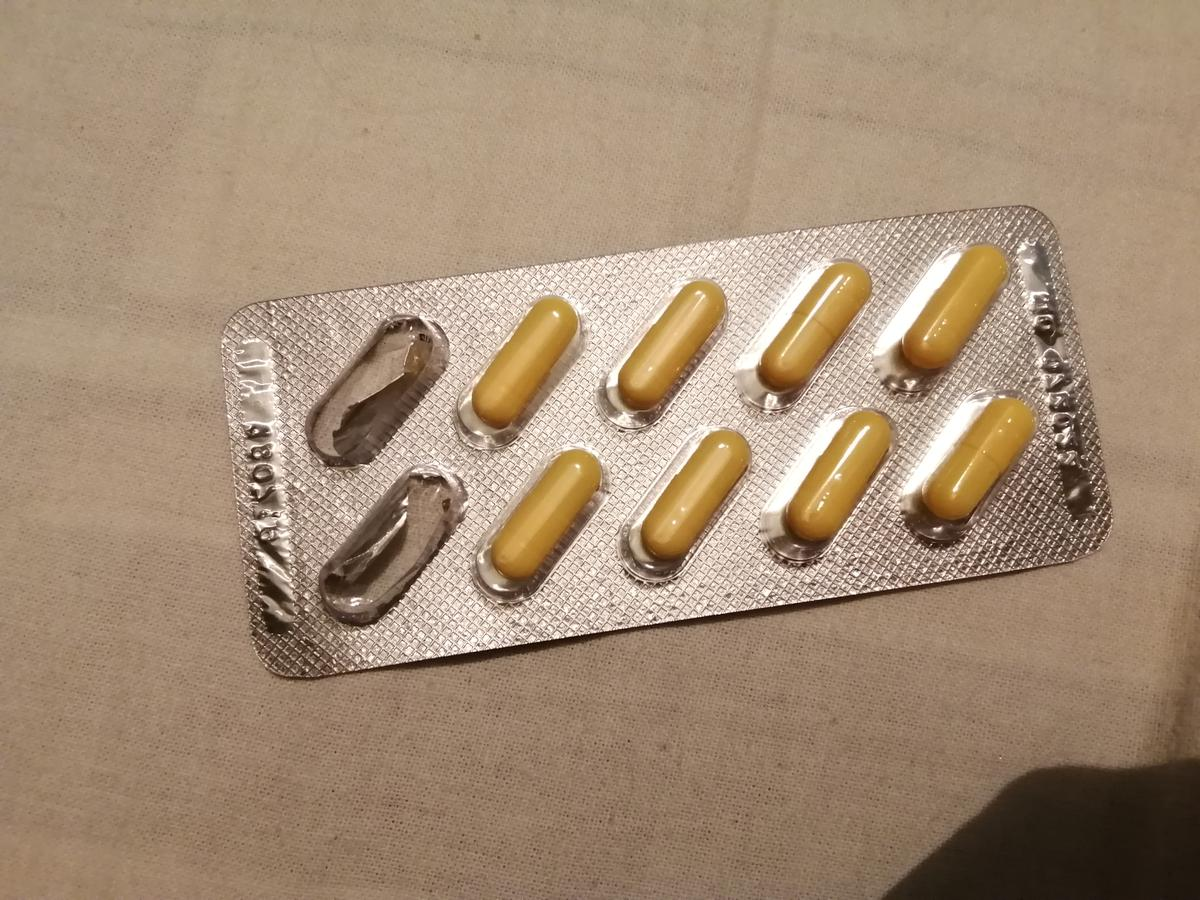capsule: (636, 424, 754, 567), (777, 407, 896, 540), (922, 393, 1033, 533), (897, 239, 1009, 376), (757, 259, 872, 391), (467, 293, 579, 427), (496, 447, 596, 593), (609, 277, 723, 401)
